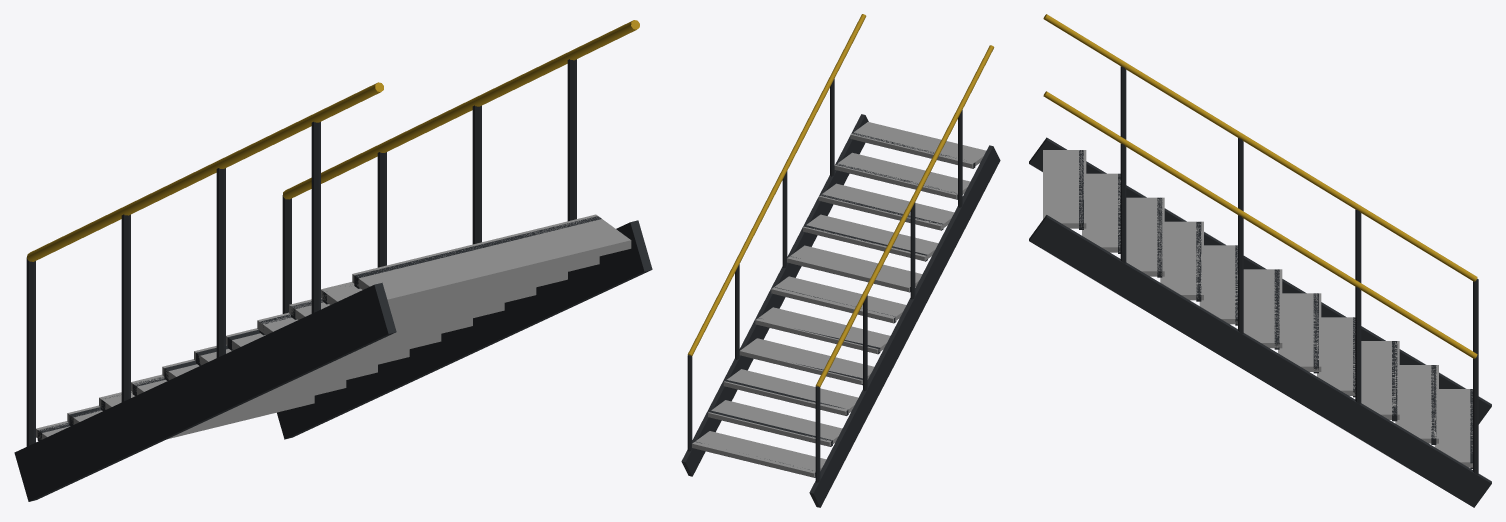
File: Stairs_Metal_2m.fbx
3 renders of one model, left to right at view 1: azimuth 30°, elevation 25°; view 2: azimuth 150°, elevation 25°; view 3: azimuth 270°, elevation 25°, orthographic. The views are drawn at different scales.
Parts seen in each view (by area): view 1: Stairs_Metal_2m_LOD0; view 2: Stairs_Metal_2m_LOD0; view 3: Stairs_Metal_2m_LOD0.
Boxes of the visible parts, left/top/right/bottom form: Stairs_Metal_2m_LOD0: left=14, top=20, right=652, bottom=501; Stairs_Metal_2m_LOD0: left=681, top=14, right=1000, bottom=507; Stairs_Metal_2m_LOD0: left=1029, top=14, right=1491, bottom=507.
Size of what is drawn, in the model's own units: 1.3 by 3.16 by 3.19.
